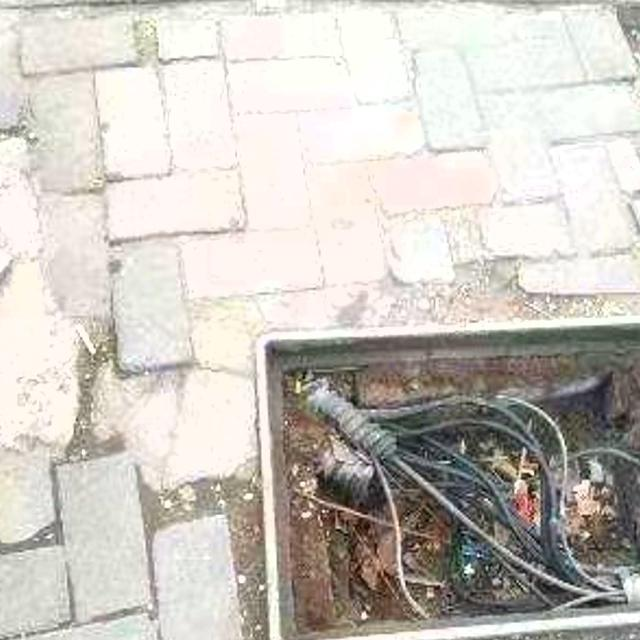lose: (255, 304, 640, 640)
